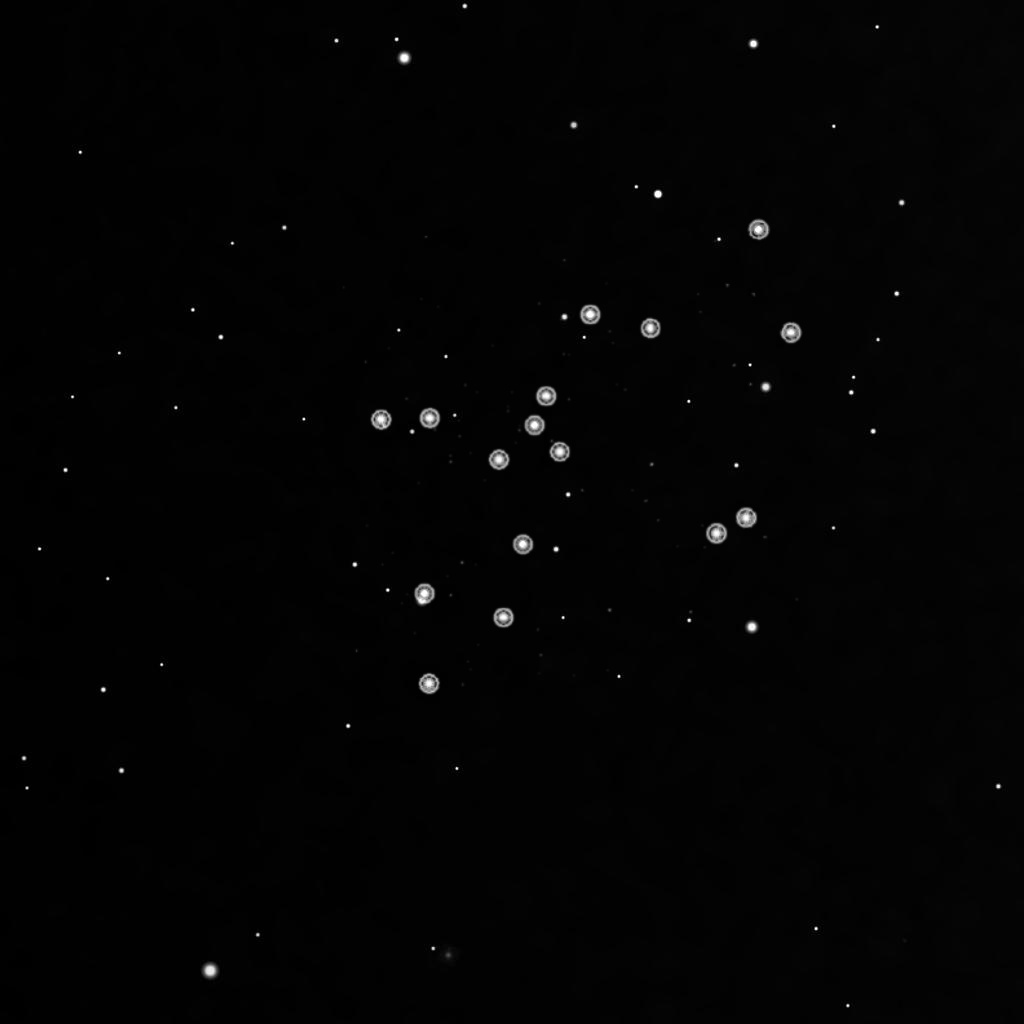canis_major: (483, 302, 663, 481)
